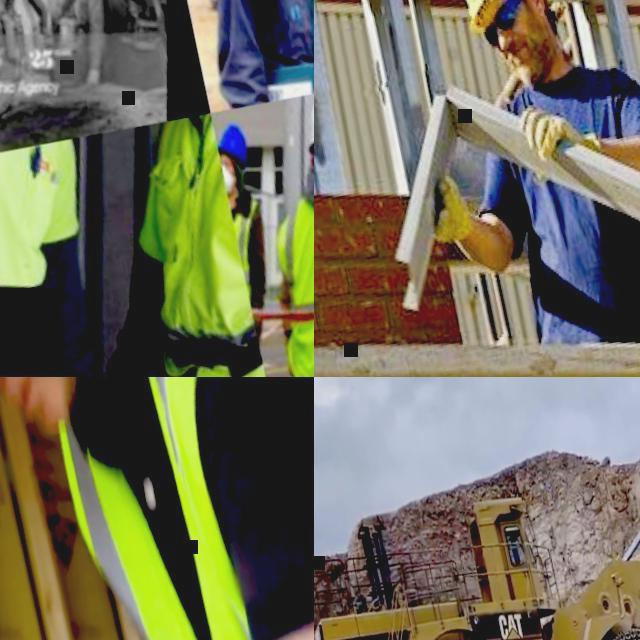helmet: (443, 0, 552, 30), (214, 124, 250, 170), (296, 85, 314, 151)
machinery: (314, 424, 640, 640)
mask: (222, 167, 238, 196)
no_mask: (0, 377, 104, 437), (502, 38, 556, 82)
no_vest: (490, 67, 640, 364), (208, 0, 314, 102), (93, 0, 187, 91), (0, 0, 63, 101), (31, 0, 104, 68), (0, 0, 25, 113)
person: (370, 0, 640, 377), (0, 377, 314, 640), (45, 111, 269, 377), (0, 137, 134, 377), (228, 84, 314, 377), (212, 121, 289, 341), (161, 0, 314, 109), (79, 0, 190, 101), (505, 540, 515, 568)
vest: (10, 377, 314, 640), (112, 112, 269, 377), (0, 135, 99, 296), (251, 178, 314, 377)
